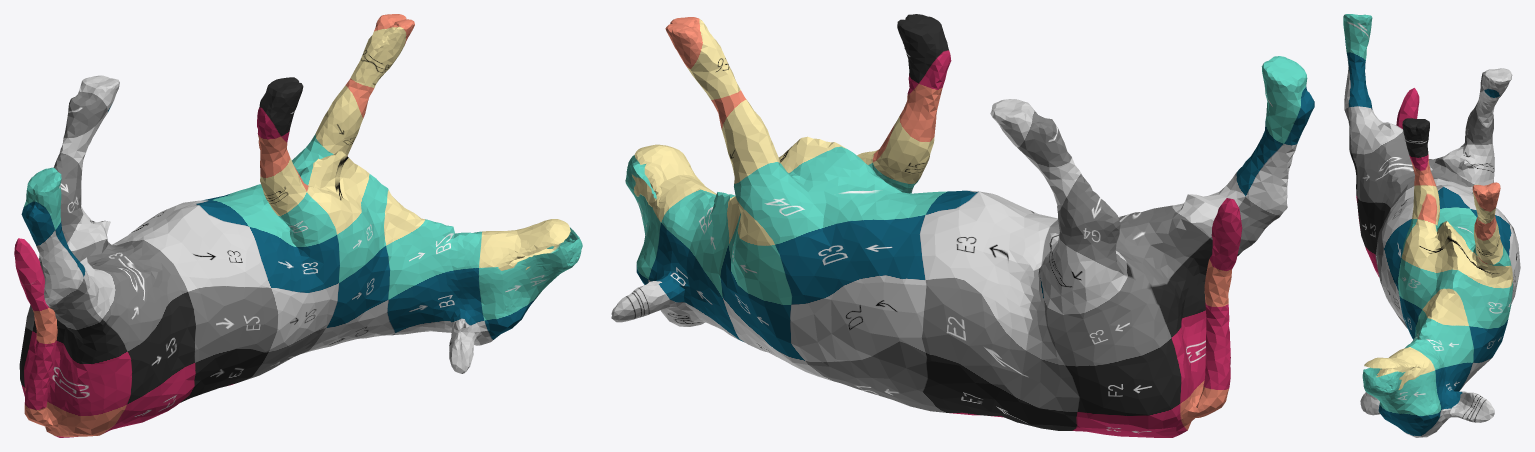
Rendered from dog_05-cow_03.obj.
3 views of the same model, side by side, from view 1: azimuth 30°, elevation 25°; view 2: azimuth 150°, elevation 25°; view 3: azimuth 270°, elevation 25° (orthographic). The views are drawn at different scales.
Parts seen in each view (by area): view 1: dog_05-cow_03_export; view 2: dog_05-cow_03_export; view 3: dog_05-cow_03_export.
Part boxes in pixels (box(x1,y1,x2,y2)): dog_05-cow_03_export: box(14, 14, 582, 437); dog_05-cow_03_export: box(611, 14, 1314, 437); dog_05-cow_03_export: box(1343, 14, 1520, 437).
Size of the model in its own units: 1 by 0.5262 by 0.3449.
